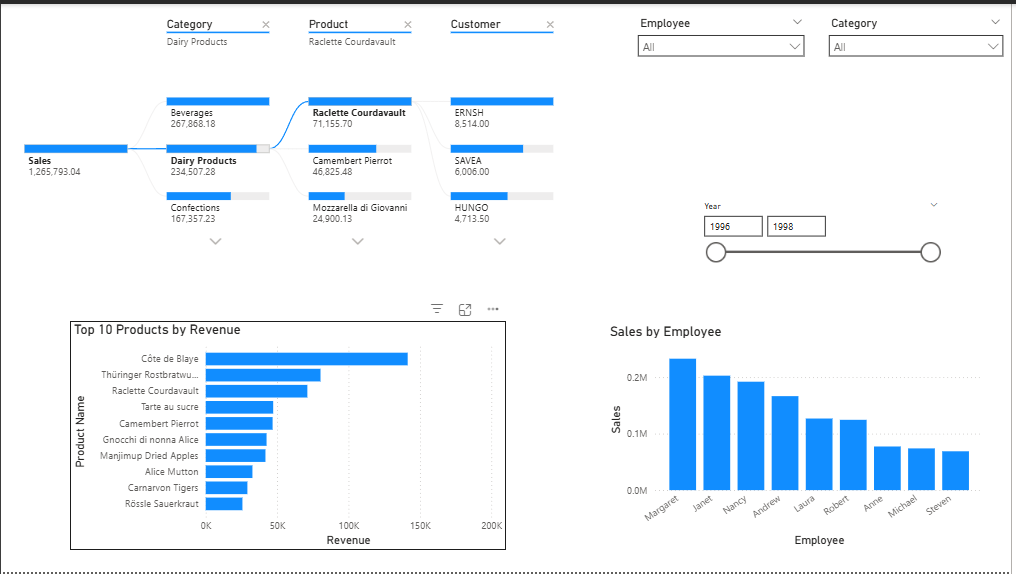

This screenshot's page, from the dashboard's own definition file:
{"tool":"powerbi","page":{"name":"Detailed Analysis","canvas":[1280,720],"ordinal":1},"visuals":[{"type":"clusteredBarChart","title":"Top 10 Products by Revenue","fields":{"Y":["_Measures.Total Revenue"],"Category":["public v_product_enriched.Product Name"]},"box":[27.9,429.6,612.1,290.2],"z":0},{"type":"decompositionTreeVisual","fields":{"Analyze":["_Measures.Total Revenue"],"ExplainBy":["public v_product_enriched.Category Name","public v_product_enriched.Product Name","public v_customer_geo.Customer ID"]},"box":[0,0,740.1,316.8],"z":1000},{"type":"clusteredColumnChart","fields":{"Y":["_Measures.Total Revenue"],"Category":["public employees.First Name"]},"box":[797.1,432.2,482.9,287.7],"z":2000},{"type":"slicer","fields":{"Values":["Calendar.Year"]},"box":[878.4,244,321.6,101.3],"z":3000},{"type":"slicer","fields":{"Values":["public v_product_enriched.Category Name"]},"box":[1039.4,11.3,240.6,77.2],"z":4000},{"type":"slicer","fields":{"Values":["public employees.First Name"]},"box":[797.7,11.3,231.5,97.6],"z":5000}]}

Visuals, with their boxes in screenshot pixels (x1, y1, x2, y2), scaled from the page's 1280x720 canvas onto the 1016x574 screenshot:
"Top 10 Products by Revenue" clusteredBarChart: 22, 342, 508, 573
decompositionTreeVisual - _Measures.Total Revenue x public v_product_enriched.Category Name: 0, 0, 587, 253
clusteredColumnChart - _Measures.Total Revenue x public employees.First Name: 633, 345, 1015, 573
slicer - Calendar.Year: 697, 195, 952, 275
slicer - public v_product_enriched.Category Name: 825, 9, 1015, 71
slicer - public employees.First Name: 633, 9, 817, 87
